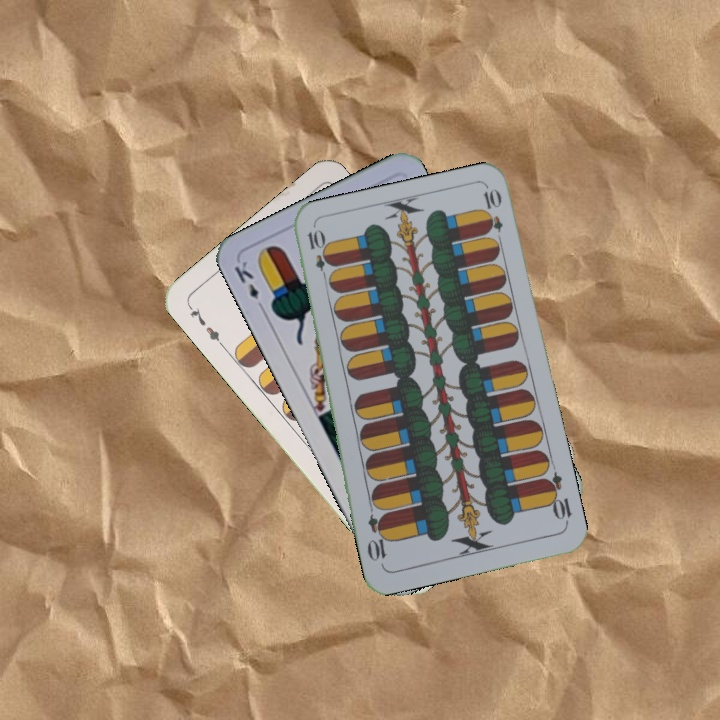E10: (539, 469, 574, 527), (303, 225, 332, 284)
E7: (184, 301, 227, 350)
EK: (230, 257, 268, 314)
